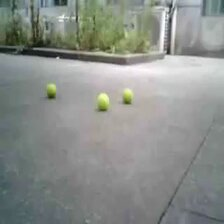tennis: (95, 92, 109, 109), (121, 88, 134, 103), (46, 84, 57, 97)
